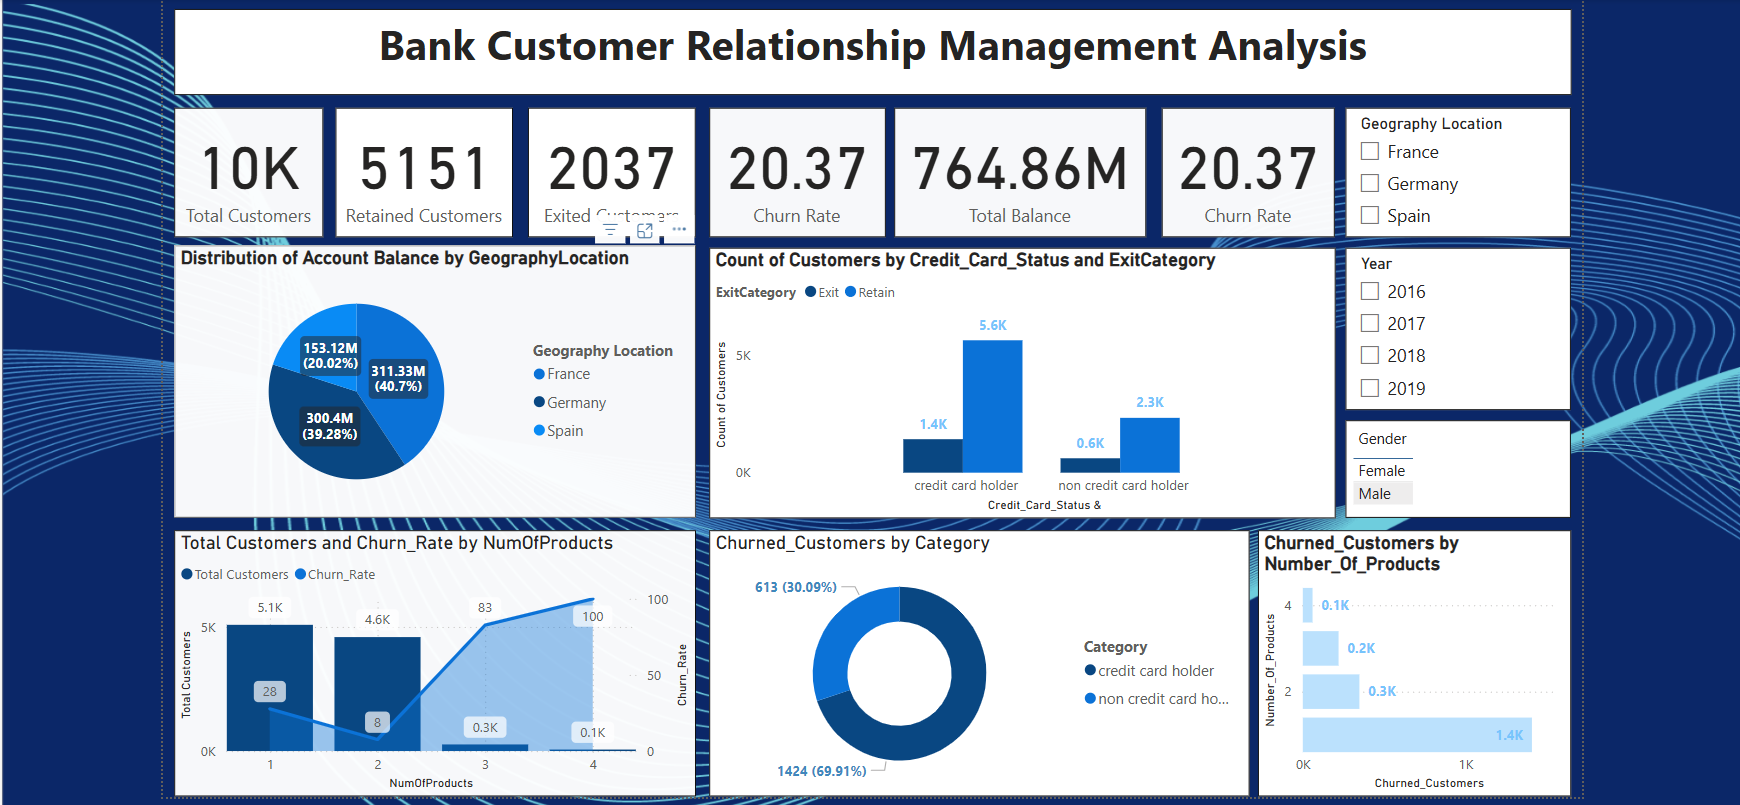

This screenshot's page, from the dashboard's own definition file:
{"tool":"powerbi","page":{"name":"Dashboard","canvas":[1280,720],"ordinal":5},"visuals":[{"type":"card","fields":{"Values":["Bank_Churn.Total Customers"]},"box":[10.2,97.9,134.8,117],"z":0},{"type":"card","fields":{"Values":["Bank_Churn.Active_customers"]},"box":[155.1,97.9,160.2,117],"z":1000},{"type":"card","fields":{"Values":["Bank_Churn.Churned_Customers"]},"box":[329.3,97.9,151.3,117],"z":2000},{"type":"card","fields":{"Values":["Bank_Churn.Churn_rate"]},"box":[492,97.9,158.9,117],"z":3000},{"type":"card","fields":{"Values":["Sum(Bank_Churn.Balance)"]},"box":[659.8,97.9,227.6,117],"z":4000},{"type":"textbox","box":[10.2,8.9,1259.9,77.6],"z":5000},{"type":"slicer","fields":{"Values":["Geography.GeographyLocation"]},"box":[1066.7,97.9,203.4,117],"z":6000},{"type":"slicer","fields":{"Values":["CustomerInfo.Bank DOJ.Variation.Date Hierarchy.Year"]},"box":[1066.7,223.8,203.4,146.2],"z":7000},{"type":"tableEx","fields":{"Values":["Gender.GenderCategory"]},"box":[1066.7,380.1,203.4,87.7],"z":8000},{"type":"card","fields":{"Values":["Bank_Churn.Churn_rate"]},"box":[900.1,97.9,156.4,117],"z":9000},{"type":"pieChart","title":"Distribution of Account Balance by GeographyLocation","fields":{"Category":["Geography.GeographyLocation"],"Y":["Sum(Bank_Churn.Balance)"]},"box":[10.2,222.5,470.4,245.4],"z":10000},{"type":"clusteredColumnChart","title":"Count of Customers by Credit_Card_Status and ExitCategory","fields":{"Category":["CreditCard.Category"],"Y":["CountNonNull(Bank_Churn.CustomerId)"],"Series":["ExitCustomer.ExitCategory"]},"box":[492,223.8,564.5,244.1],"z":11000},{"type":"lineClusteredColumnComboChart","fields":{"Category":["Bank_Churn.NumOfProducts"],"Y":["Bank_Churn.Total Customers"],"Y2":["Bank_Churn.Churn_rate"]},"box":[10.2,479.3,470.4,240.3],"z":12000},{"type":"donutChart","fields":{"Category":["CreditCard.Category"],"Y":["Bank_Churn.Churned_customers"]},"box":[492,479.3,486.9,240.3],"z":13000},{"type":"barChart","fields":{"Category":["Bank_Churn.NumOfProducts"],"Y":["Bank_Churn.Churned_Customers"]},"box":[987.8,479.3,282.2,240.3],"z":14000}]}

Visuals, with their boxes in screenshot pixels (x1, y1, x2, y2):
card - Bank_Churn.Total Customers: (x1=174, y1=104, x2=323, y2=233)
card - Bank_Churn.Active_customers: (x1=334, y1=104, x2=511, y2=233)
card - Bank_Churn.Churned_Customers: (x1=527, y1=104, x2=694, y2=233)
card - Bank_Churn.Churn_rate: (x1=707, y1=104, x2=882, y2=233)
card - Sum(Bank_Churn.Balance): (x1=892, y1=104, x2=1143, y2=233)
textbox: (x1=174, y1=5, x2=1566, y2=91)
slicer - Geography.GeographyLocation: (x1=1342, y1=104, x2=1566, y2=233)
slicer - CustomerInfo.Bank DOJ.Variation.Date Hierarchy.Year: (x1=1342, y1=243, x2=1566, y2=404)
tableEx - Gender.GenderCategory: (x1=1342, y1=415, x2=1566, y2=512)
card - Bank_Churn.Churn_rate: (x1=1157, y1=104, x2=1330, y2=233)
"Distribution of Account Balance by GeographyLocation" pieChart: (x1=174, y1=241, x2=694, y2=512)
"Count of Customers by Credit_Card_Status and ExitCategory" clusteredColumnChart: (x1=707, y1=243, x2=1330, y2=512)
lineClusteredColumnComboChart - Bank_Churn.NumOfProducts x Bank_Churn.Total Customers: (x1=174, y1=525, x2=694, y2=790)
donutChart - CreditCard.Category x Bank_Churn.Churned_customers: (x1=707, y1=525, x2=1245, y2=790)
barChart - Bank_Churn.NumOfProducts x Bank_Churn.Churned_Customers: (x1=1254, y1=525, x2=1566, y2=790)
